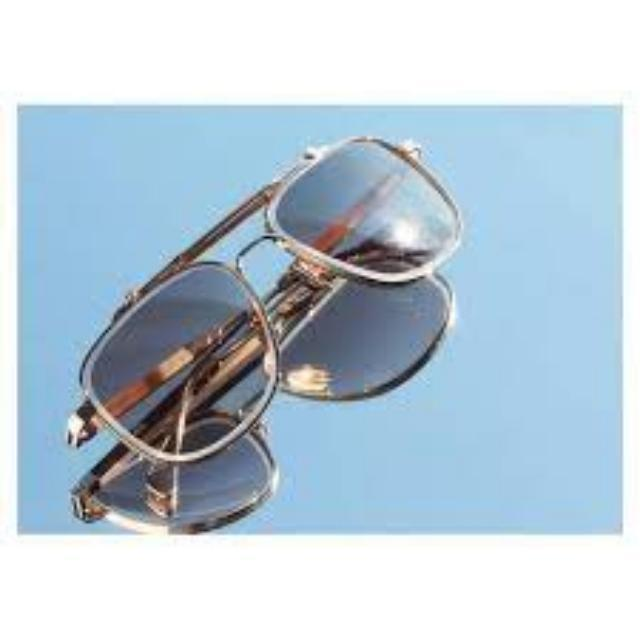sunglasses: (38, 125, 486, 467)
